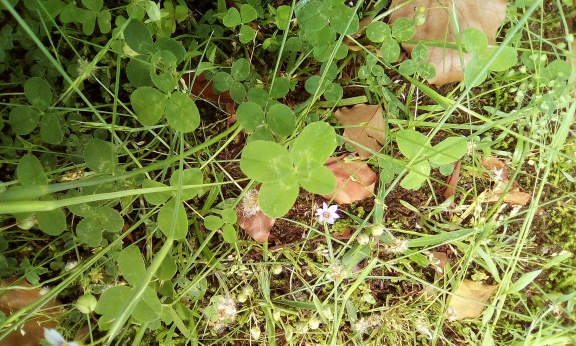4leaf: (239, 120, 339, 219)
